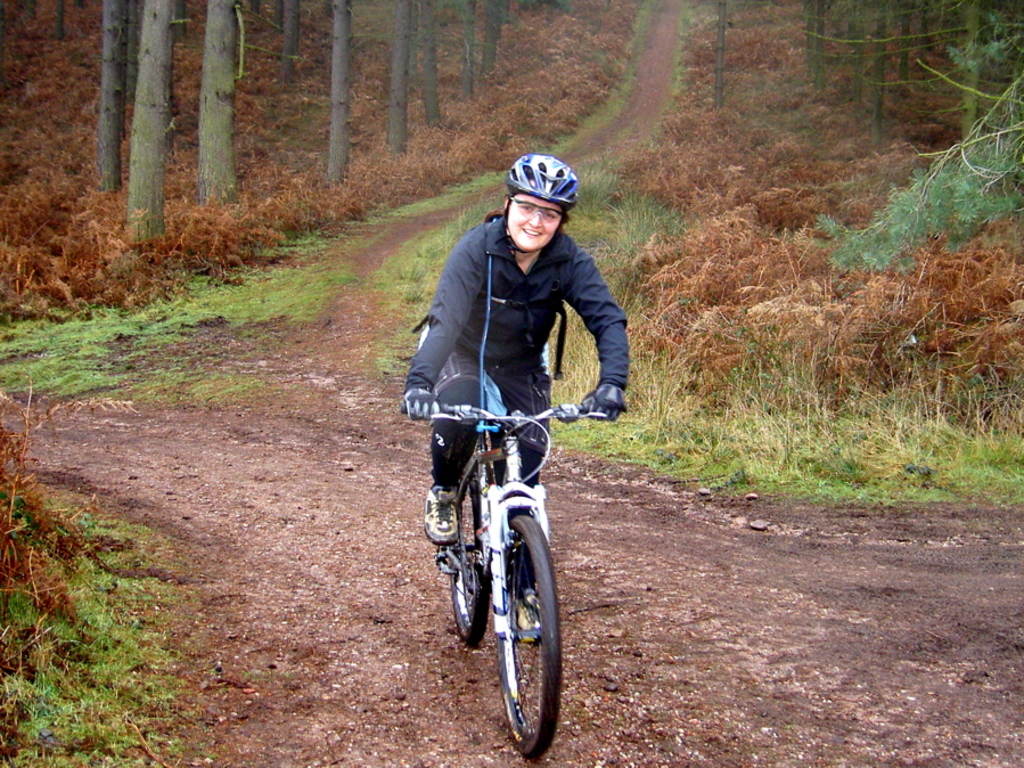Bike_toward: (411, 367, 623, 765)
